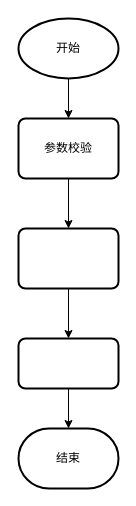
This 136x506 diagram has some shape labels left out. The box of each missing label's shape, as (x1, y1, x2, y2) in pixels:
修改数据项资响应参数名和描述: (17, 337, 119, 389)
添加接口资源配置信息: (17, 227, 119, 289)
